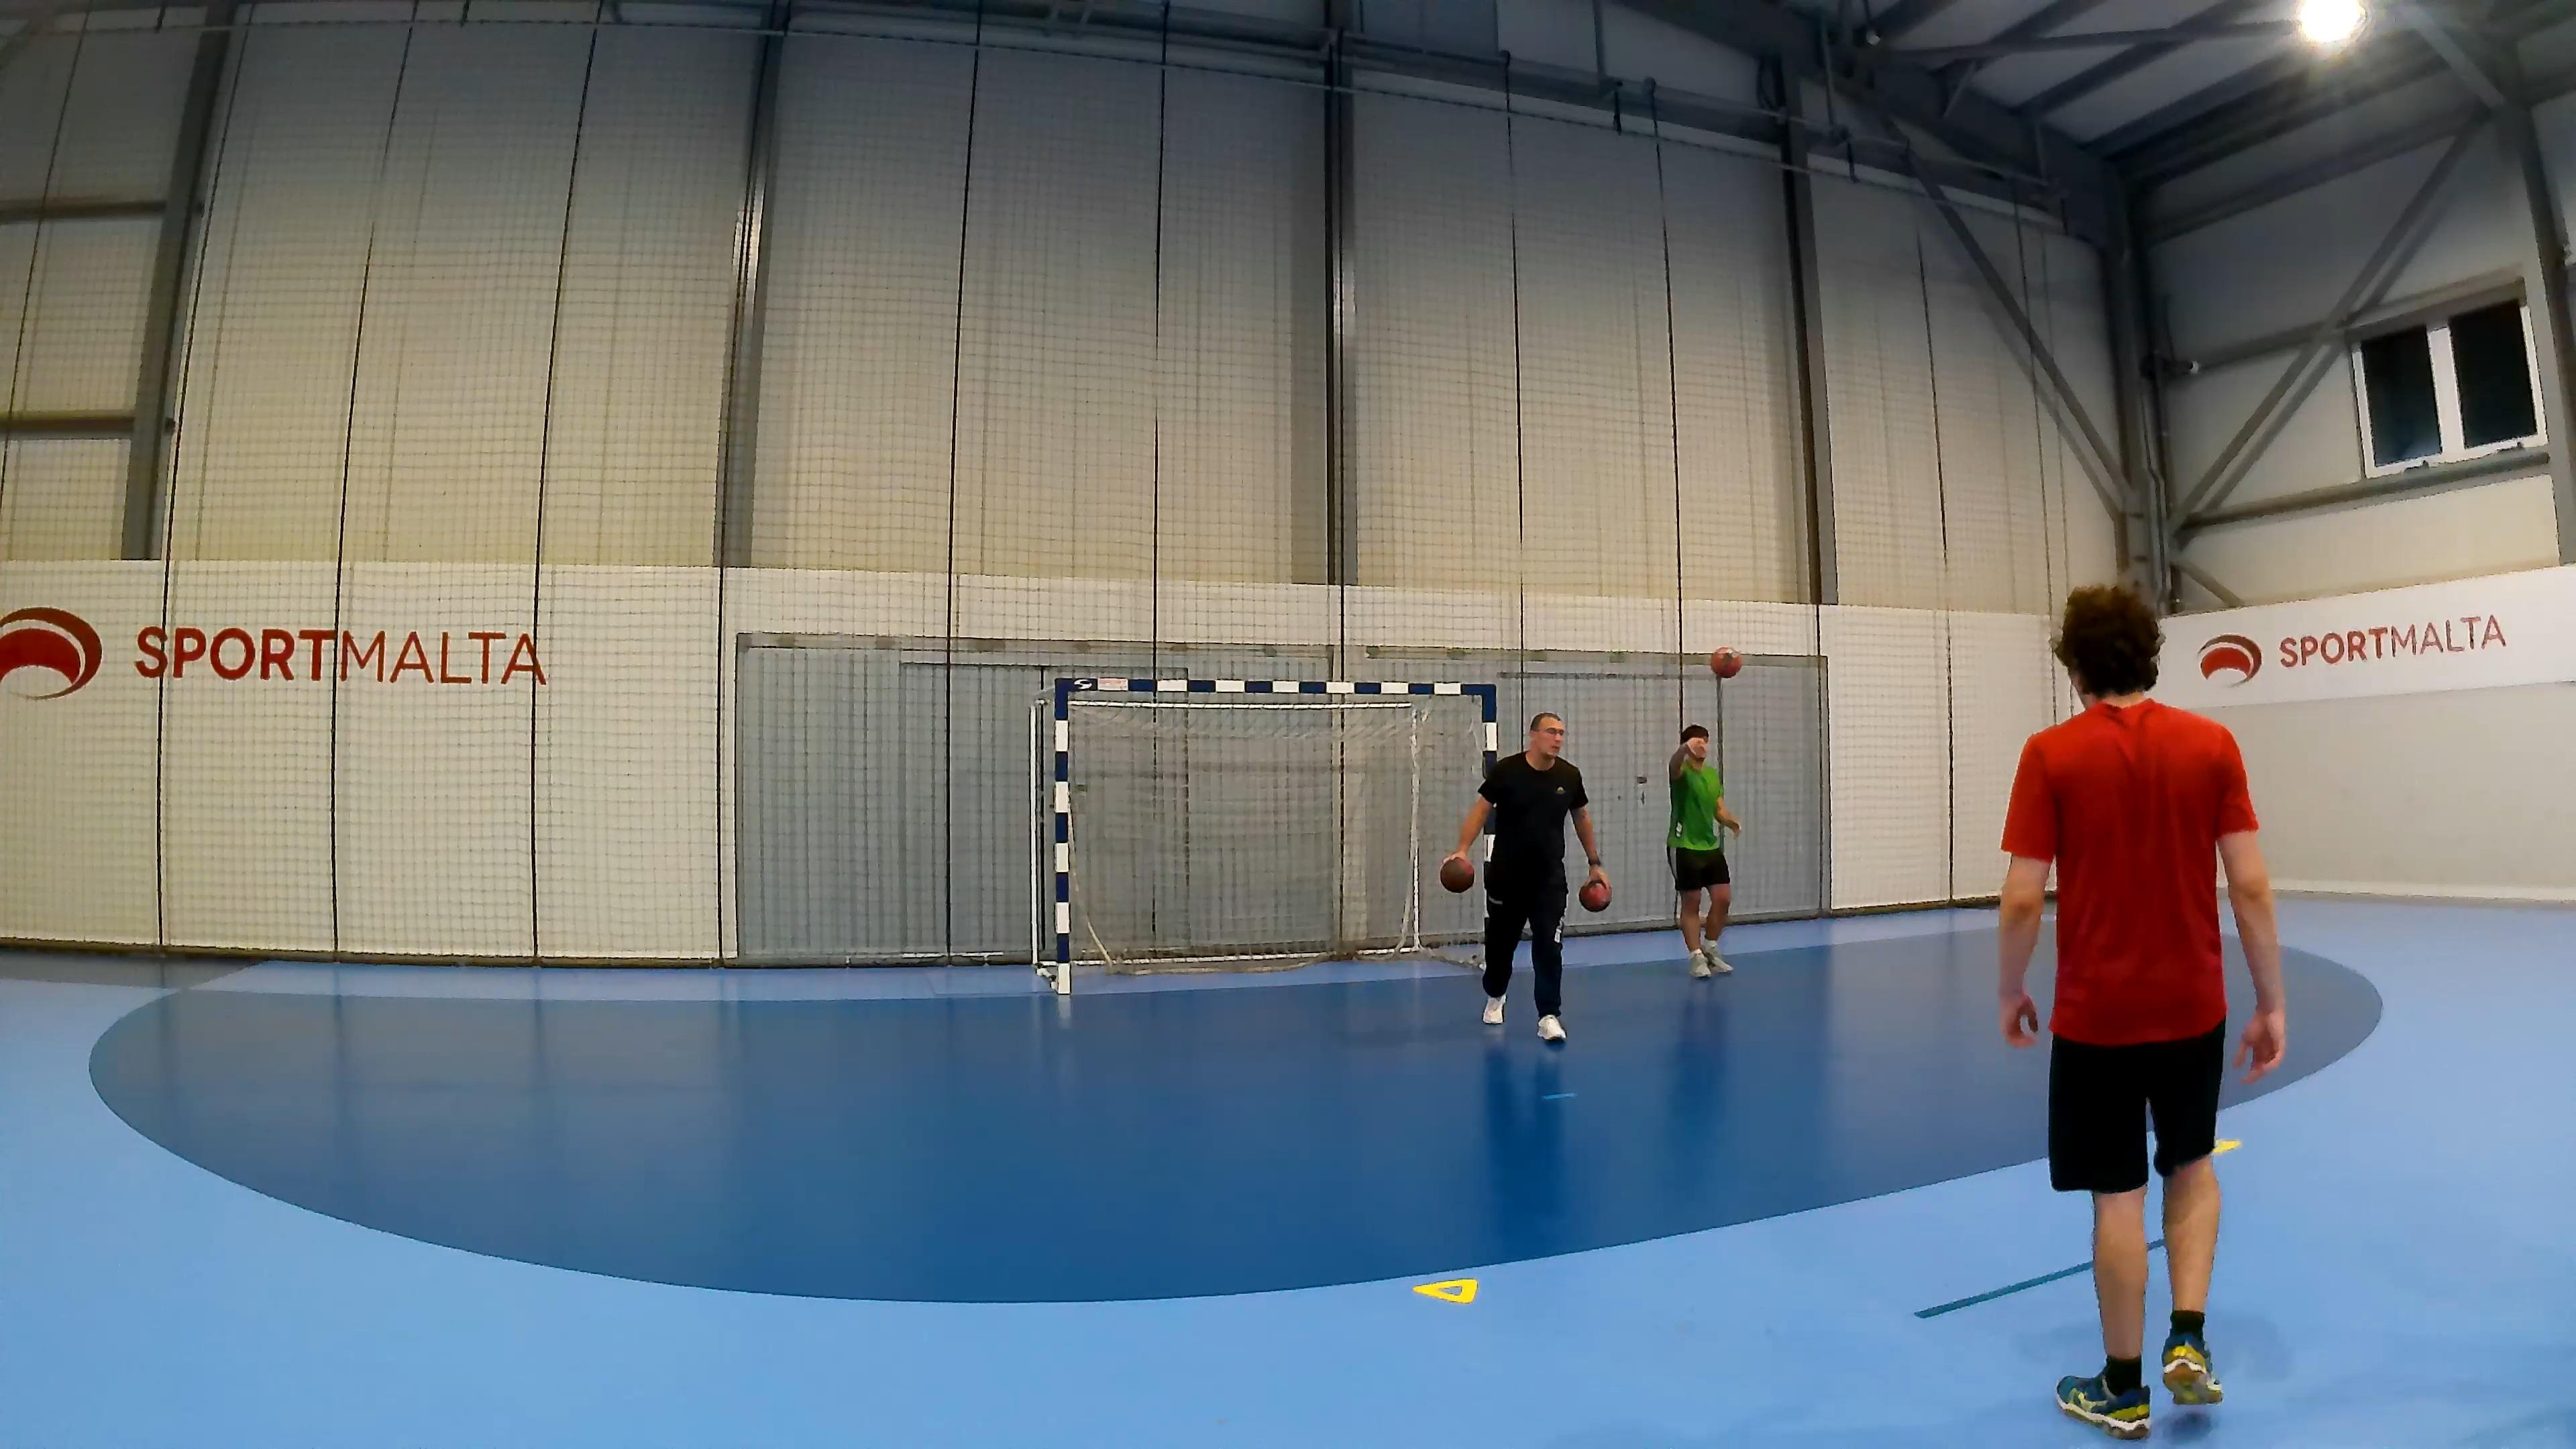handball: (1438, 853, 1474, 892), (1578, 878, 1612, 911), (1709, 646, 1741, 678)
